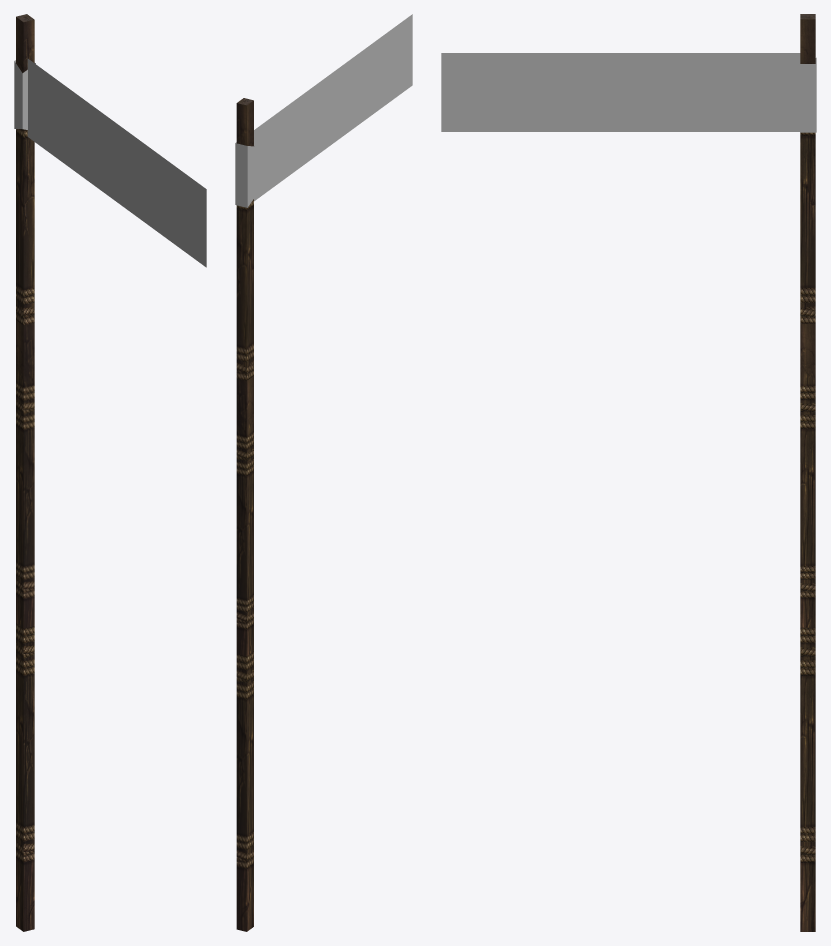
The model's file is A_qizhi_002.fbx.
3 renders of one model, left to right at view 1: azimuth 30°, elevation 25°; view 2: azimuth 150°, elevation 25°; view 3: azimuth 270°, elevation 25°, orthographic. The views are drawn at different scales.
Visible parts, largest first — view 1: A_qizhi_002; view 2: A_qizhi_002; view 3: A_qizhi_002.
Boxes of the visible parts, bbox=[...] form: A_qizhi_002: bbox=[14, 14, 206, 931]; A_qizhi_002: bbox=[235, 14, 412, 931]; A_qizhi_002: bbox=[441, 14, 816, 931].
Bounding box in the file's own units: 5.86 × 380 × 142.
